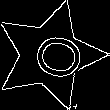O_W: (17, 27, 82, 83)
